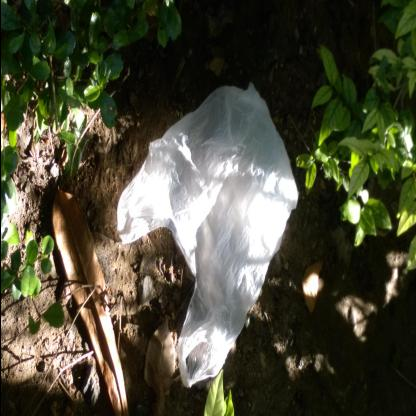plastik: (116, 84, 297, 392)
